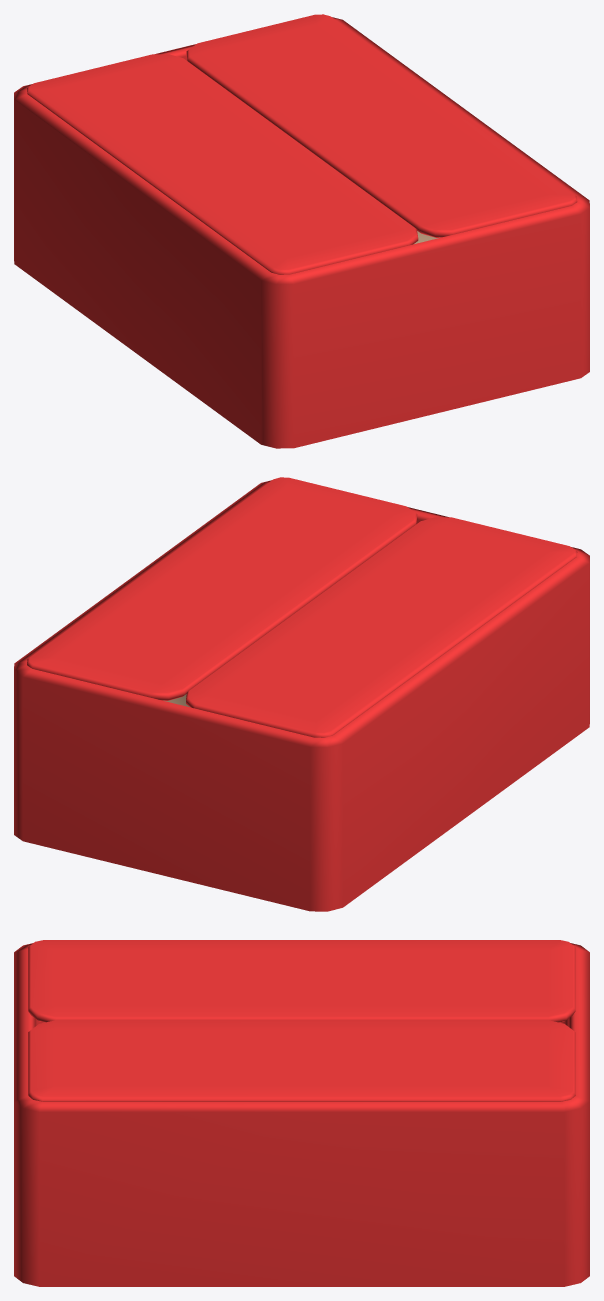
File: Red_Box.fbx
3 views of the same model, one above another, from view 1: azimuth 30°, elevation 25°; view 2: azimuth 150°, elevation 25°; view 3: azimuth 270°, elevation 25° (orthographic). The views are drawn at different scales.
Parts seen in each view (by area): view 1: Redbox, Yellowbox14, Yellowbox15; view 2: Redbox, Yellowbox14, Yellowbox15; view 3: Redbox, Yellowbox15, Yellowbox14.
Boxes of the visible parts, box(x1,y1,x2,y2) form: Redbox: box(14, 17, 589, 448); Yellowbox14: box(27, 54, 418, 274); Yellowbox15: box(186, 14, 577, 237); Redbox: box(14, 480, 589, 911); Yellowbox14: box(186, 517, 577, 737); Yellowbox15: box(27, 477, 417, 700); Redbox: box(14, 943, 589, 1286); Yellowbox15: box(28, 1020, 575, 1101); Yellowbox14: box(28, 940, 575, 1022).
Bounding box in the file's own units: 252 × 126 × 359.
